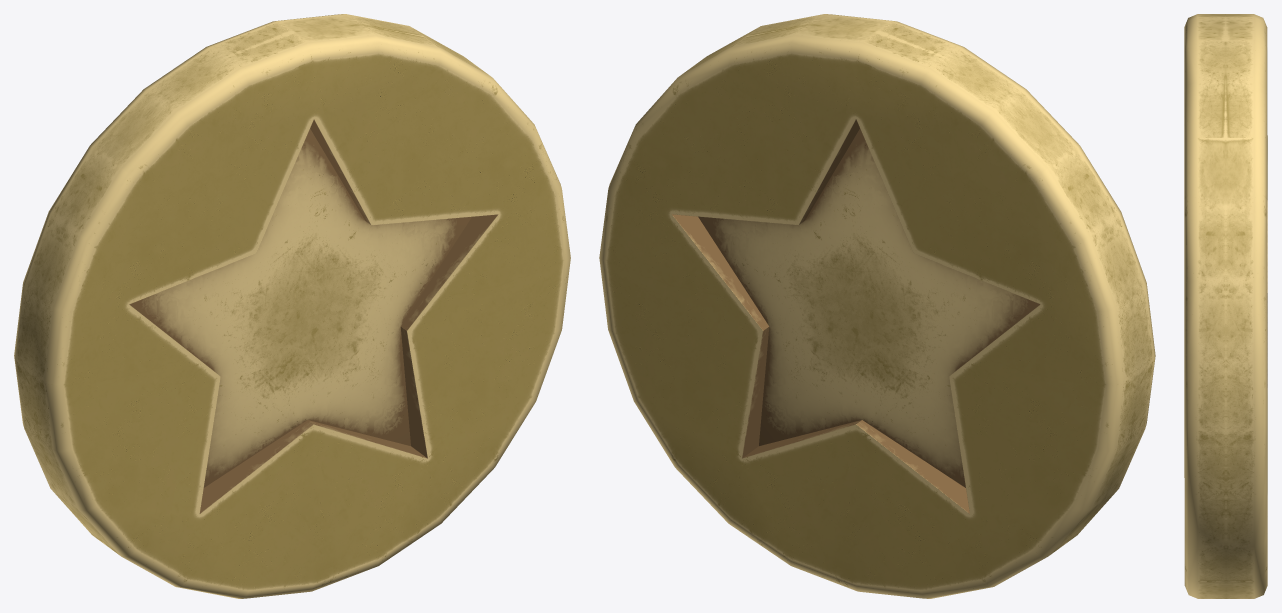
The model's file is Coin.fbx.
3 views of the same model, side by side, from view 1: azimuth 30°, elevation 25°; view 2: azimuth 150°, elevation 25°; view 3: azimuth 270°, elevation 25° (orthographic). The views are drawn at different scales.
Parts seen in each view (by area): view 1: Coin; view 2: Coin; view 3: Coin.
Part boxes in pixels (x1=…): Coin: x1=14, y1=14, x2=570, y2=598; Coin: x1=599, y1=14, x2=1155, y2=598; Coin: x1=1184, y1=14, x2=1267, y2=598.
Size of the model in its own units: 61.85 by 61.86 by 8.81.
